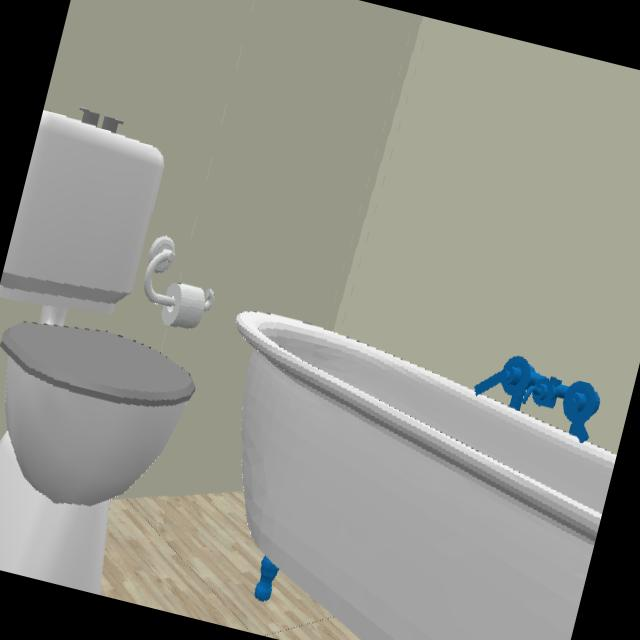bathtube: (234, 312, 616, 640)
toilet: (0, 112, 194, 594)
